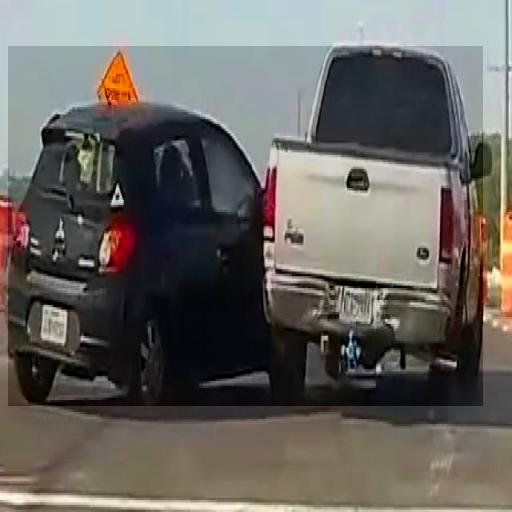小汽车撞小汽车: (8, 46, 483, 406)
